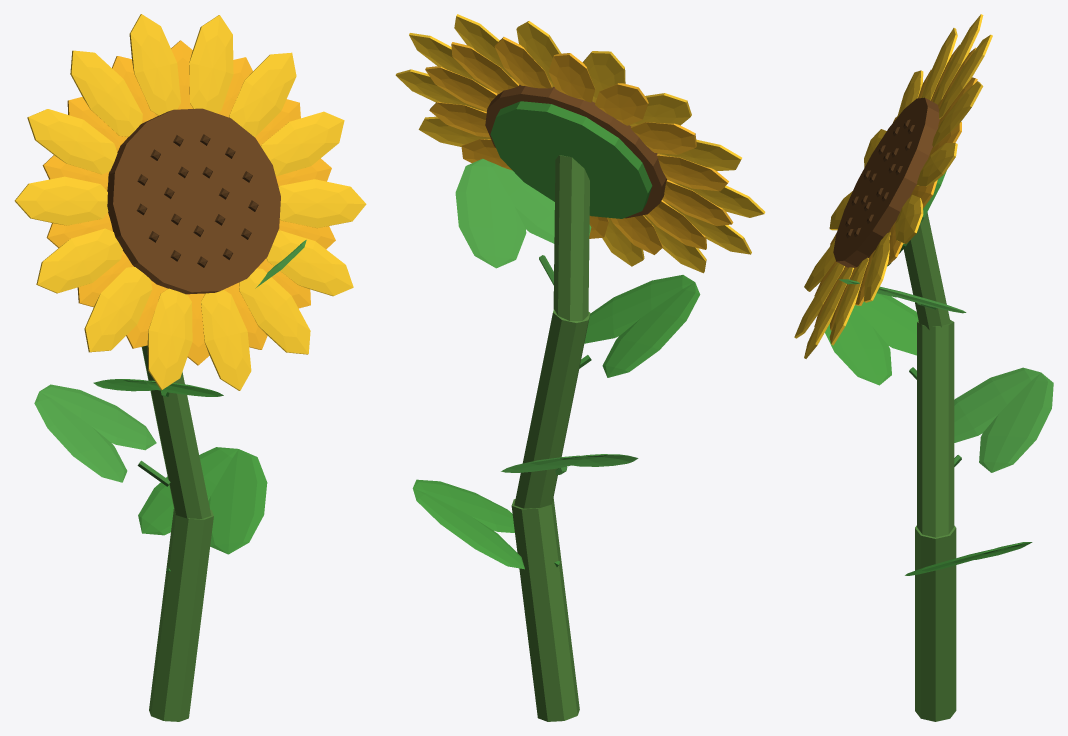
The model's file is Planta_Sunflower.fbx.
The picture shows the model from 3 angles, left to right: view 1: azimuth 30°, elevation 25°; view 2: azimuth 150°, elevation 25°; view 3: azimuth 270°, elevation 25°; orthographic projection. The views are drawn at different scales.
Visible parts, largest first — view 1: Corpo_Sunflower; view 2: Corpo_Sunflower; view 3: Corpo_Sunflower.
Part boxes in pixels (bbox=[...]): Corpo_Sunflower: bbox=[14, 14, 366, 721]; Corpo_Sunflower: bbox=[395, 14, 765, 721]; Corpo_Sunflower: bbox=[794, 14, 1053, 721].
Bounding box in the file's own units: 2.74 × 5.43 × 1.88.
1 material, 1 textured.
